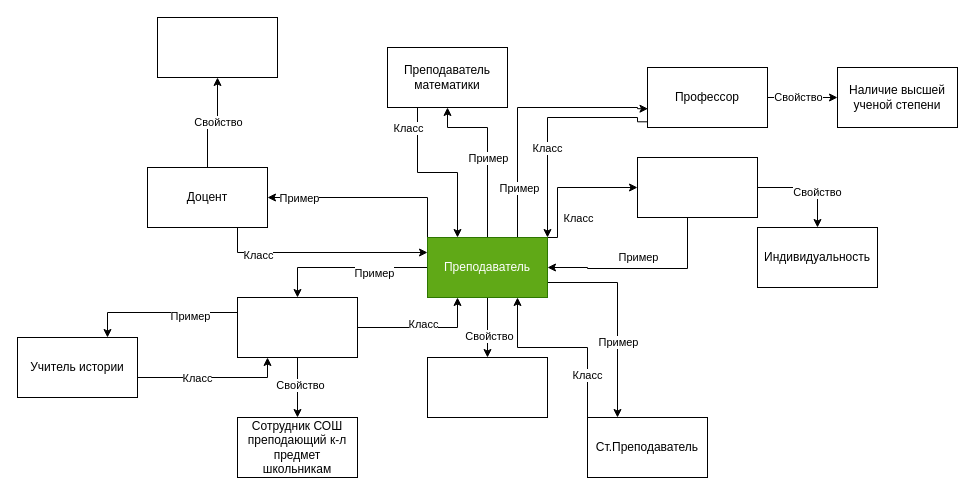
Some shapes in this 975 by 495 pixel diagram are drawn without their labels. Here are the shapes that lost their labels. From the top down, the centre of each, then its label:
At (217,47): "Стаж > 5 лет + степень кандидата".
At (697,187): "Человек".
At (297,327): "Учитель".
At (487,387): "Обучает людей".
